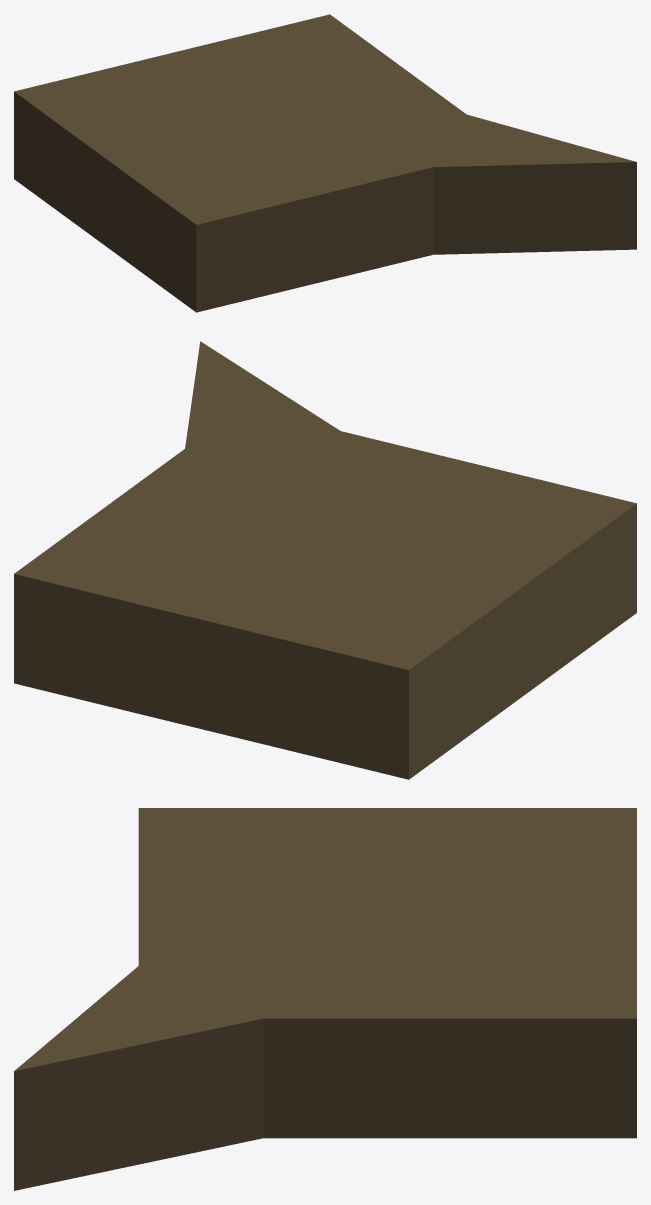
File: corner_mud.glb
The picture shows the model from 3 angles, top to bottom: view 1: azimuth 30°, elevation 25°; view 2: azimuth 150°, elevation 25°; view 3: azimuth 270°, elevation 25°; orthographic projection. The views are drawn at different scales.
Visible parts, largest first — view 1: corner_mud; view 2: corner_mud; view 3: corner_mud.
Part boxes in pixels (<box>): corner_mud: <box>14,14,636,312</box>; corner_mud: <box>14,341,636,779</box>; corner_mud: <box>14,808,636,1190</box>.
Size of the model in its own units: 0.5 by 0.106 by 0.5.
